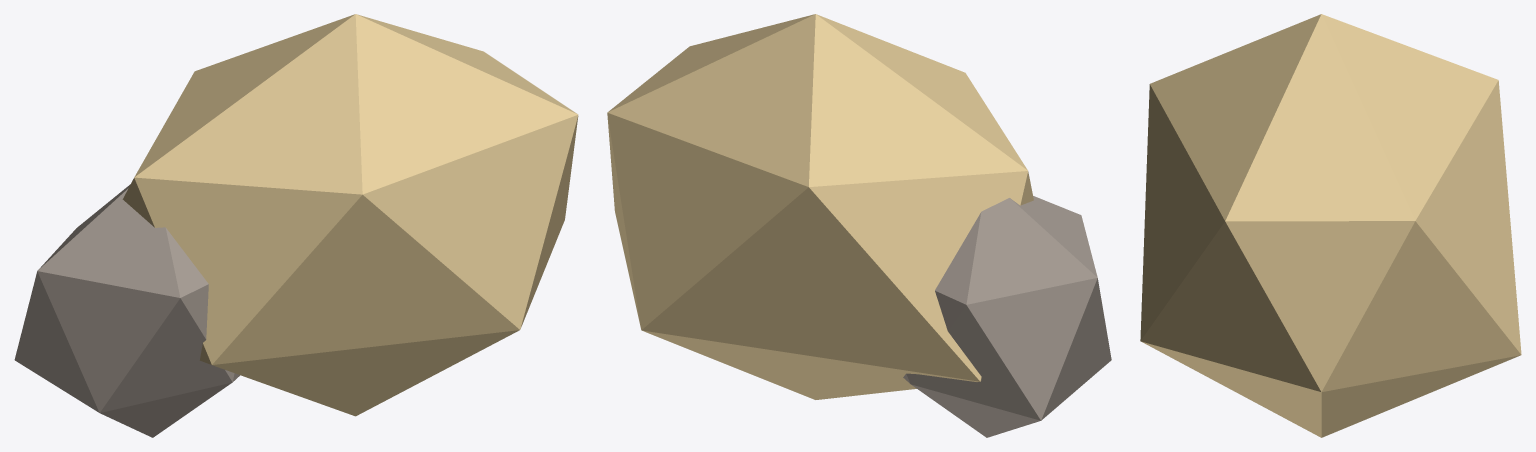
File: Desert_Rock1.fbx
3 views of the same model, side by side, from view 1: azimuth 30°, elevation 25°; view 2: azimuth 150°, elevation 25°; view 3: azimuth 270°, elevation 25° (orthographic). The views are drawn at different scales.
Visible parts, largest first — view 1: Desert_Rock1; view 2: Desert_Rock1; view 3: Desert_Rock1.
Part boxes in pixels (x1,y1,x2,y2): Desert_Rock1: [14, 14, 578, 437]; Desert_Rock1: [607, 14, 1111, 437]; Desert_Rock1: [1140, 14, 1521, 437].
Bounding box in the file's own units: 2.43 × 1.82 × 1.48.
